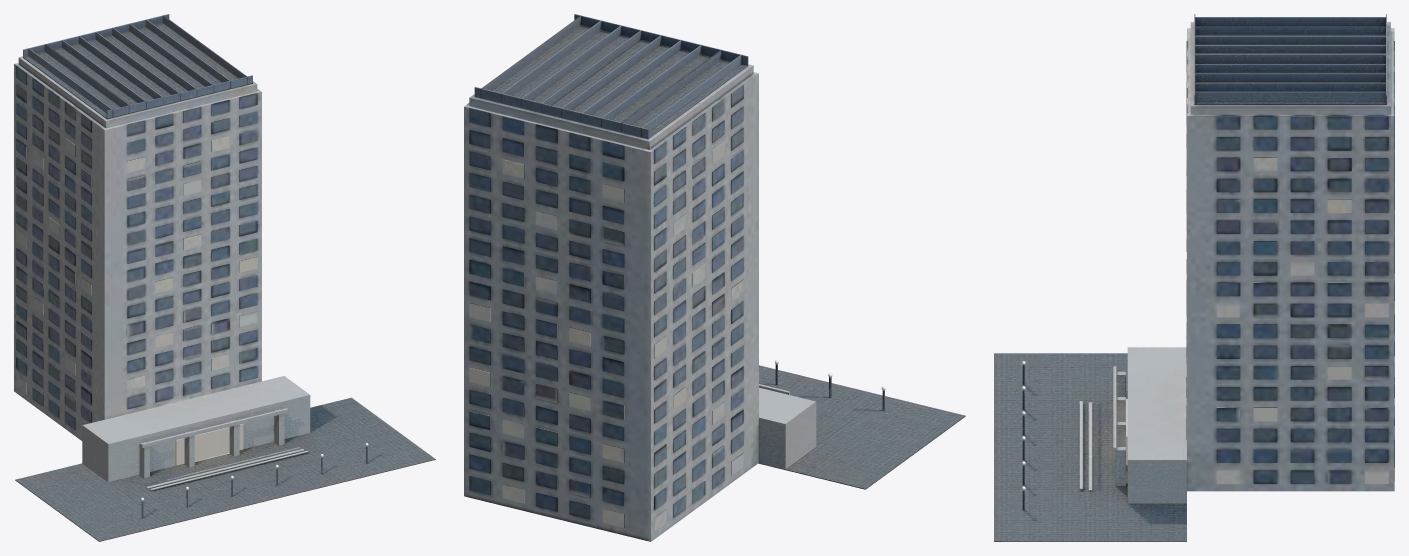
The model's file is victoria_apartment_low.glb.
3 views of the same model, side by side, from view 1: azimuth 30°, elevation 25°; view 2: azimuth 150°, elevation 25°; view 3: azimuth 270°, elevation 25° (orthographic). The views are drawn at different scales.
Parts seen in each view (by area): view 1: walls_tower, site_ground, props_podium, props_terrace; view 2: walls_tower, props_terrace, site_ground, props_podium; view 3: walls_tower, site_ground, props_terrace, props_podium.
Part boxes in pixels (left/top/right/bottom): walls_tower: left=14, top=56, right=261, bottom=440; site_ground: left=15, top=397, right=435, bottom=541; props_podium: left=82, top=376, right=310, bottom=482; props_terrace: left=23, top=14, right=252, bottom=119; walls_tower: left=464, top=64, right=758, bottom=541; props_terrace: left=474, top=14, right=748, bottom=139; site_ground: left=758, top=365, right=965, bottom=489; props_podium: left=759, top=384, right=816, bottom=469; walls_tower: left=1186, top=22, right=1394, bottom=491; site_ground: left=994, top=353, right=1186, bottom=541; props_terrace: left=1194, top=14, right=1386, bottom=104; props_podium: left=1113, top=347, right=1186, bottom=503.
Size of the model in its own units: 60 by 58.5 by 54.05.
Materials: 5 (5 with a texture image).
